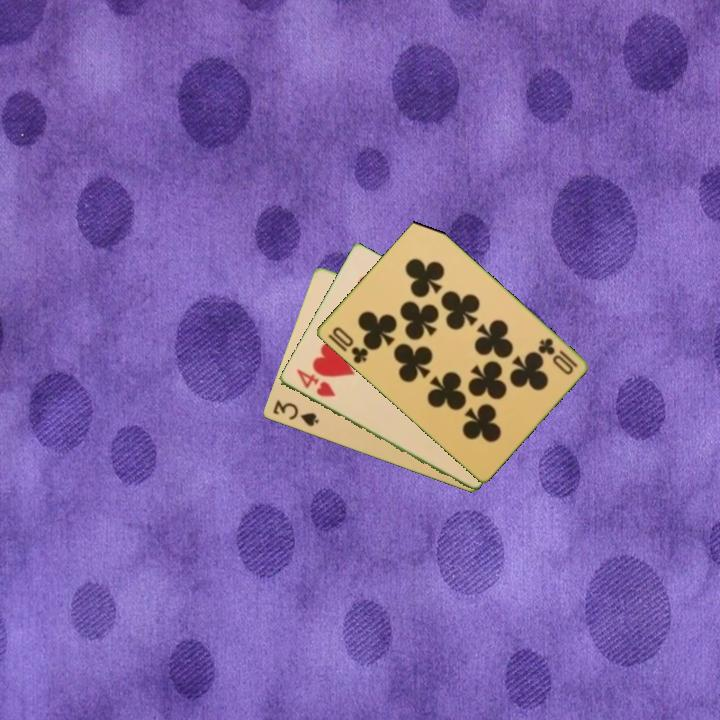10c: (534, 334, 580, 378), (328, 323, 371, 367)
3s: (269, 397, 322, 430)
4h: (293, 365, 339, 400)
